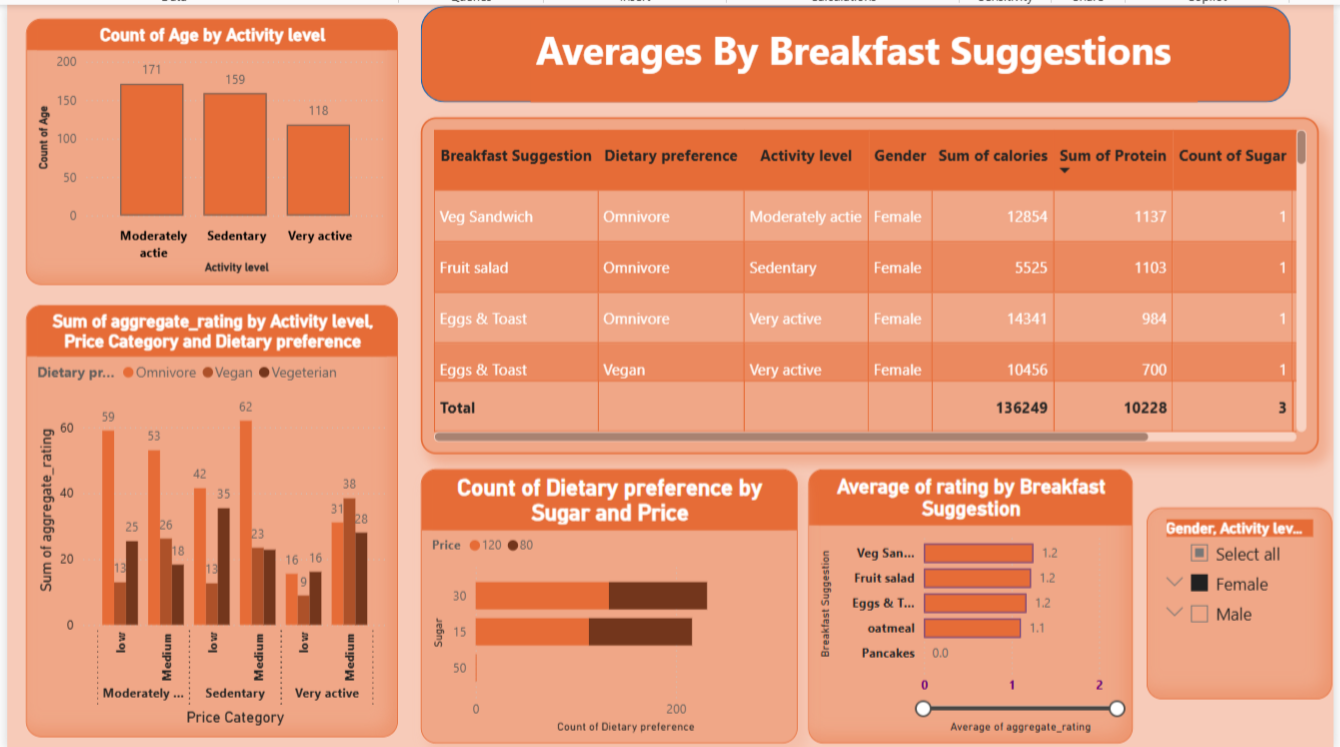

What the dashboard file says about the page in this screenshot:
{"tool":"powerbi","page":{"name":"Averages by Breakfast Suggestions","canvas":[1280,720],"ordinal":2},"visuals":[{"type":"clusteredBarChart","title":"Average of rating by Breakfast Suggestion","fields":{"Y":["Avg(Restaurants.aggregate_rating)"],"Category":["Restaurants.Breakfast Suggestion "]},"box":[773.3,447.1,314,265.1],"z":0},{"type":"clusteredColumnChart","fields":{"Category":["Restaurants.Activity level"],"Y":["CountNonNull(Restaurants.Age)"]},"box":[18.3,13.4,359.2,256.5],"z":2000},{"type":"clusteredColumnChart","fields":{"Category":["Restaurants.Activity level","Restaurants.Price Category"],"Series":["Restaurants.Dietary preference"],"Y":["Sum(Restaurants.aggregate_rating)"]},"box":[18.3,289.5,359.2,416.6],"z":3000},{"type":"shape","box":[399.3,1.2,839.7,92.9],"z":4000},{"type":"textbox","box":[505.5,13.3,644.2,80.8],"z":5000},{"type":"slicer","fields":{"Values":["Restaurants.Gender","Restaurants.Activity level","Restaurants.Dietary preference","Restaurants.Disease"]},"box":[1100.7,485,179.6,184.5],"z":6000},{"type":"tableEx","fields":{"Values":["Restaurants.Breakfast Suggestion ","Restaurants.Dietary preference","Restaurants.Activity level","Restaurants.Gender","Sum(Restaurants.calories)","Sum(Restaurants.Protein)","Restaurants.Sugar","Restaurants.Sodium ","Restaurants.Price"]},"box":[399.5,108.7,867.3,324.9],"z":7000},{"type":"barChart","fields":{"Category":["Restaurants.Sugar"],"Y":["CountNonNull(Restaurants.Dietary preference)"],"Series":["Restaurants.Price"]},"box":[399.5,447.1,364,265.1],"z":7001}]}

Visuals, with their boxes in screenshot pixels (x1, y1, x2, y2), scaled from the page's 1280x720 canvas onto the 1340x747 screenshot:
"Average of rating by Breakfast Suggestion" clusteredBarChart: BBox(810, 464, 1138, 739)
clusteredColumnChart - Restaurants.Activity level x CountNonNull(Restaurants.Age): BBox(19, 14, 395, 280)
clusteredColumnChart - Restaurants.Activity level x Restaurants.Price Category: BBox(19, 300, 395, 733)
shape: BBox(418, 1, 1297, 98)
textbox: BBox(529, 14, 1204, 98)
slicer - Restaurants.Gender x Restaurants.Activity level: BBox(1152, 503, 1339, 695)
tableEx - Restaurants.Breakfast Suggestion  x Restaurants.Dietary preference: BBox(418, 113, 1326, 450)
barChart - Restaurants.Sugar x CountNonNull(Restaurants.Dietary preference): BBox(418, 464, 799, 739)
